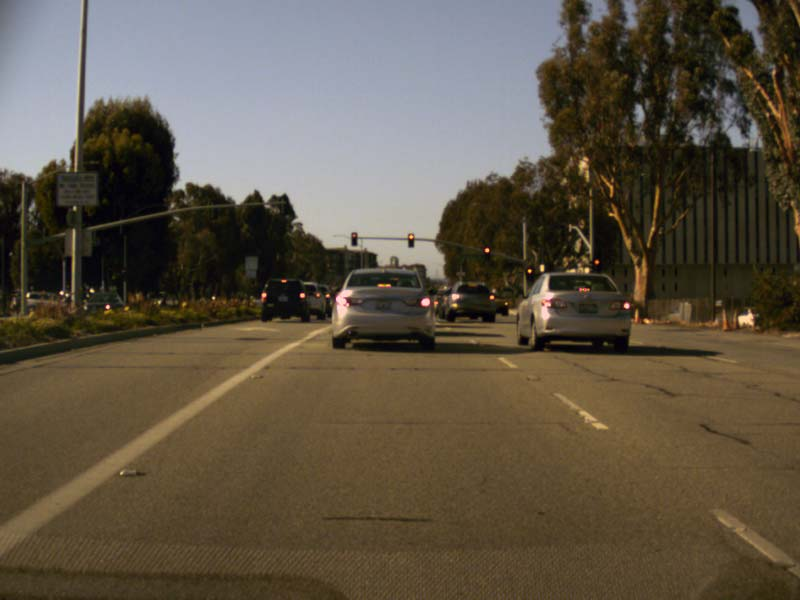Red: (525, 266, 533, 280), (593, 257, 600, 272), (483, 245, 489, 260), (351, 232, 356, 245), (408, 234, 413, 246)
